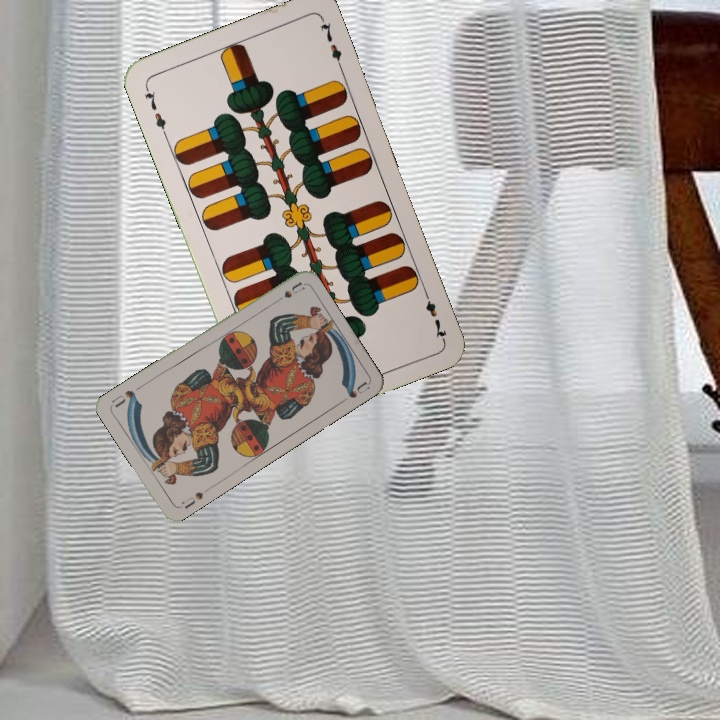E7: (419, 285, 450, 342), (140, 82, 170, 139)
SU: (268, 278, 307, 307), (178, 484, 212, 512)
